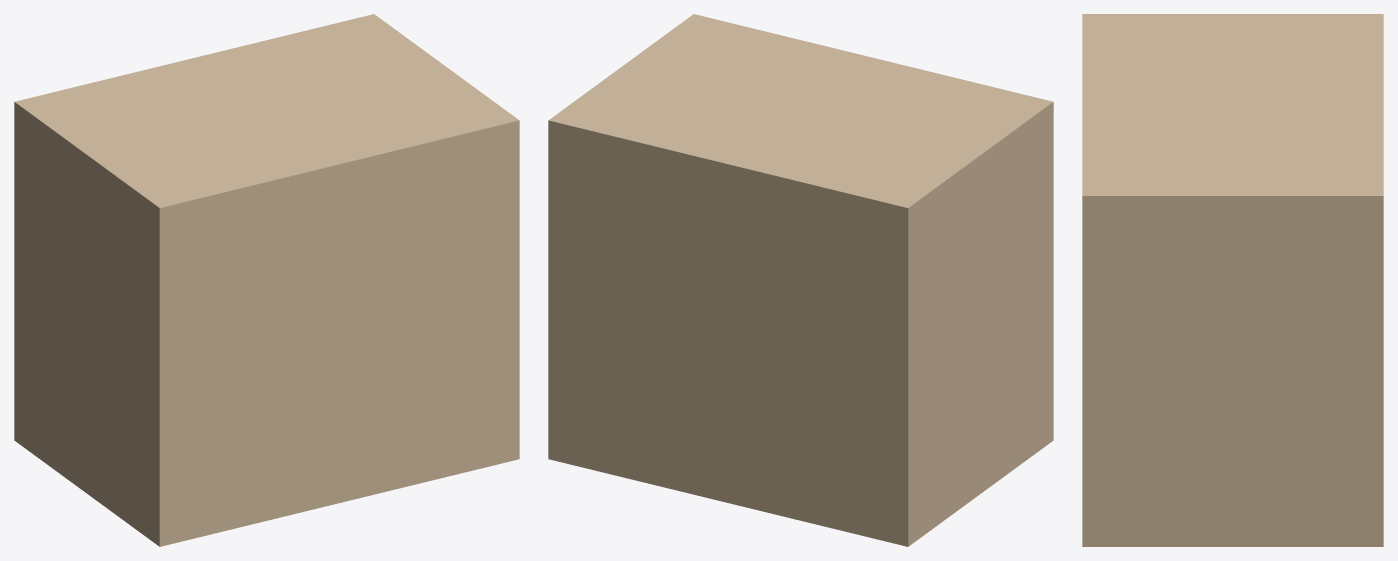
3 views of the same model, side by side, from view 1: azimuth 30°, elevation 25°; view 2: azimuth 150°, elevation 25°; view 3: azimuth 270°, elevation 25° (orthographic). The views are drawn at different scales.
Visible parts, largest first — view 1: carcass; view 2: carcass; view 3: carcass.
Boxes of the visible parts, x1,y1,x2,y2 form: carcass: (14,14,519,546); carcass: (548,14,1053,546); carcass: (1082,14,1383,546).
Size of the model in its own units: 0.8 by 0.72 by 0.56.
